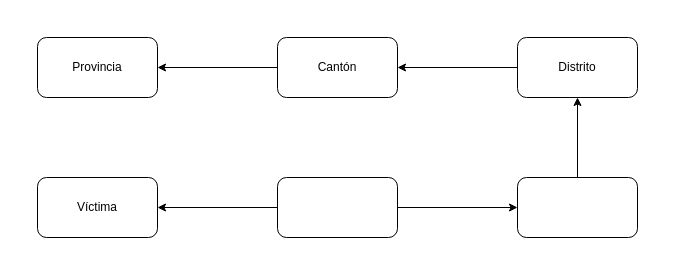
The diagram is 674 pixels wide and 274 high, and some of its shapes have lost their labels. The box of each missing label's shape, as (x1, y1, x2, y2) in pixels:
Crimen: (516, 176, 638, 238)
Crimen-Víctima: (276, 176, 398, 238)
